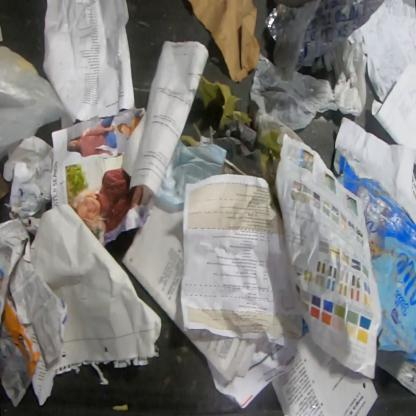cardboard: (341, 149, 415, 359)
soft_plastic: (249, 0, 381, 131), (0, 47, 64, 152)
